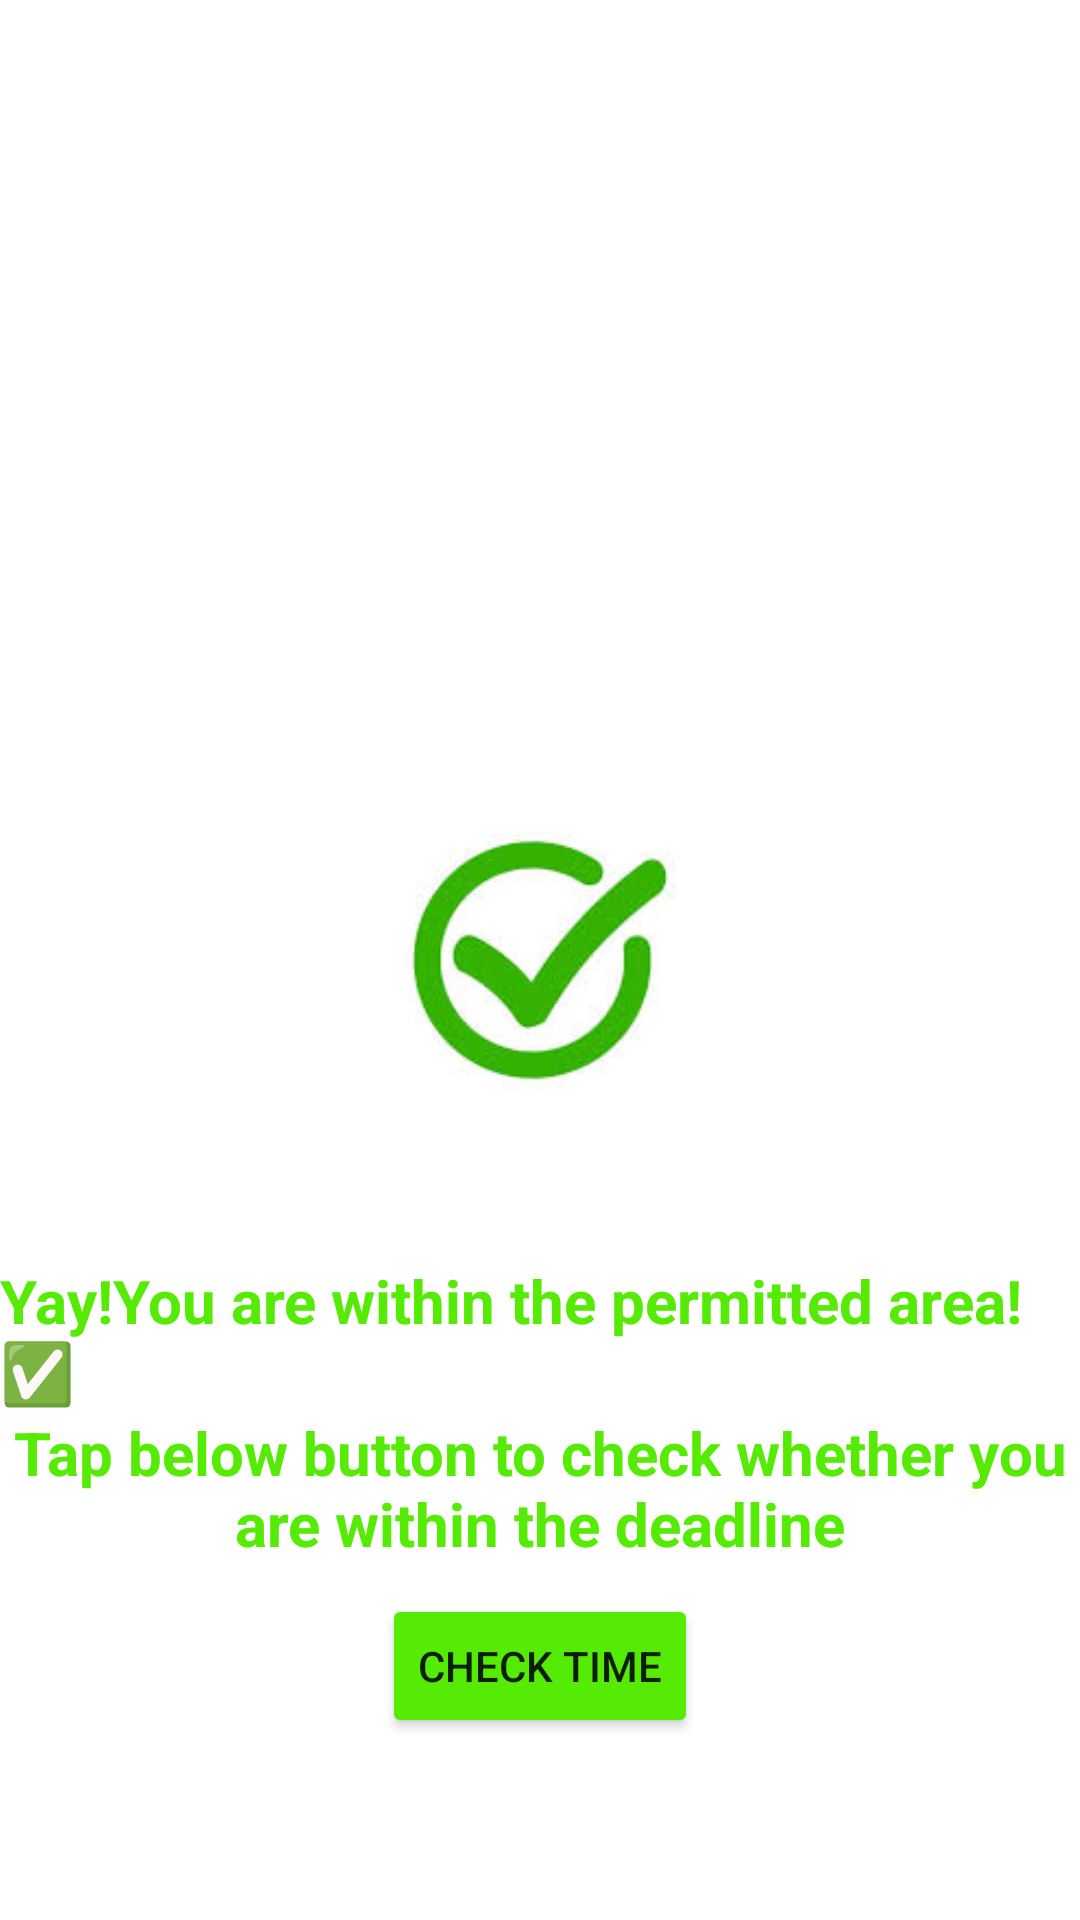

Screen size 1080 x 1920. Icon name, then its center in pixels as (x=x, y=y):
successfully: (x=540, y=957)
